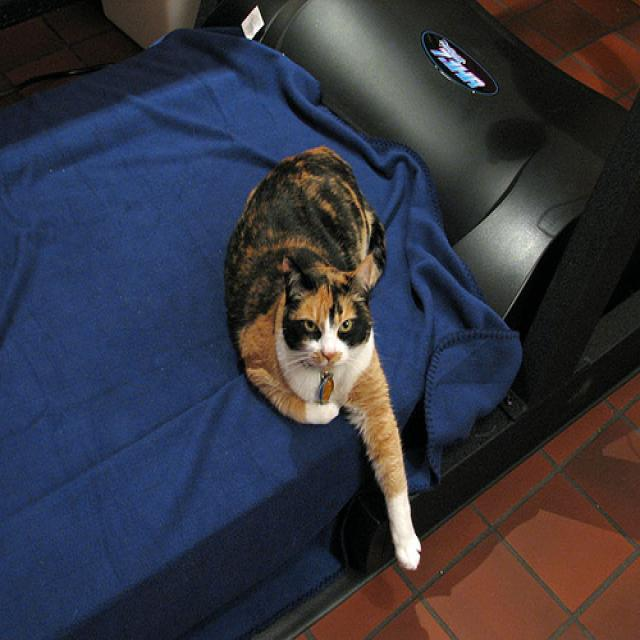left eye: (338, 315, 354, 333)
